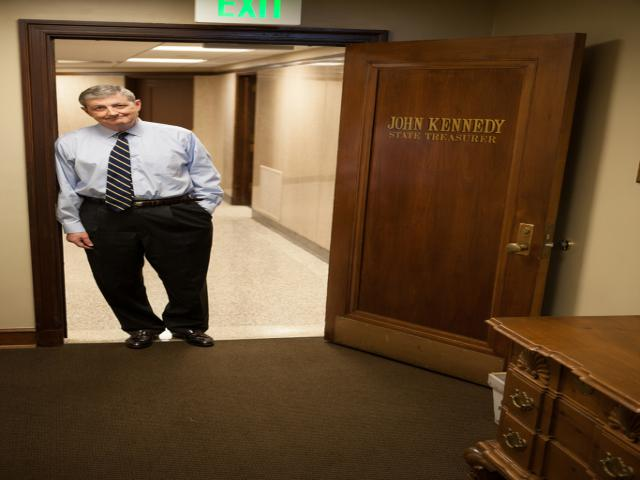Door-handle: (507, 222, 541, 258), (595, 450, 638, 478), (508, 389, 547, 410), (497, 430, 528, 451), (556, 236, 575, 254)
